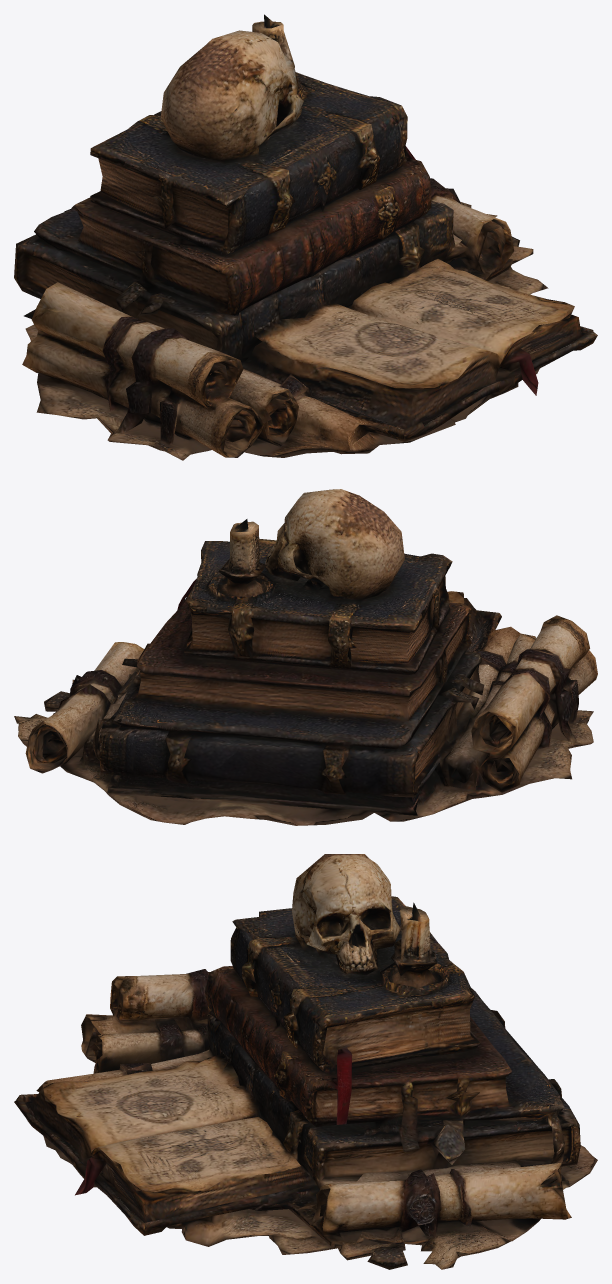
Rendered from raw_books.glb.
3 renders of one model, top to bottom at view 1: azimuth 30°, elevation 25°; view 2: azimuth 150°, elevation 25°; view 3: azimuth 270°, elevation 25°, orthographic. The views are drawn at different scales.
Parts seen in each view (by area): view 1: tripo_node_04a56ce4-e60b-4ee7-a209-f1d764e54e32; view 2: tripo_node_04a56ce4-e60b-4ee7-a209-f1d764e54e32; view 3: tripo_node_04a56ce4-e60b-4ee7-a209-f1d764e54e32.
Part boxes in pixels (bbox=[...]): tripo_node_04a56ce4-e60b-4ee7-a209-f1d764e54e32: bbox=[14, 14, 597, 460]; tripo_node_04a56ce4-e60b-4ee7-a209-f1d764e54e32: bbox=[14, 489, 597, 825]; tripo_node_04a56ce4-e60b-4ee7-a209-f1d764e54e32: bbox=[14, 854, 597, 1269].
Bounding box in the file's own units: 1 × 0.5166 × 0.9929.
1 material, 1 textured.
